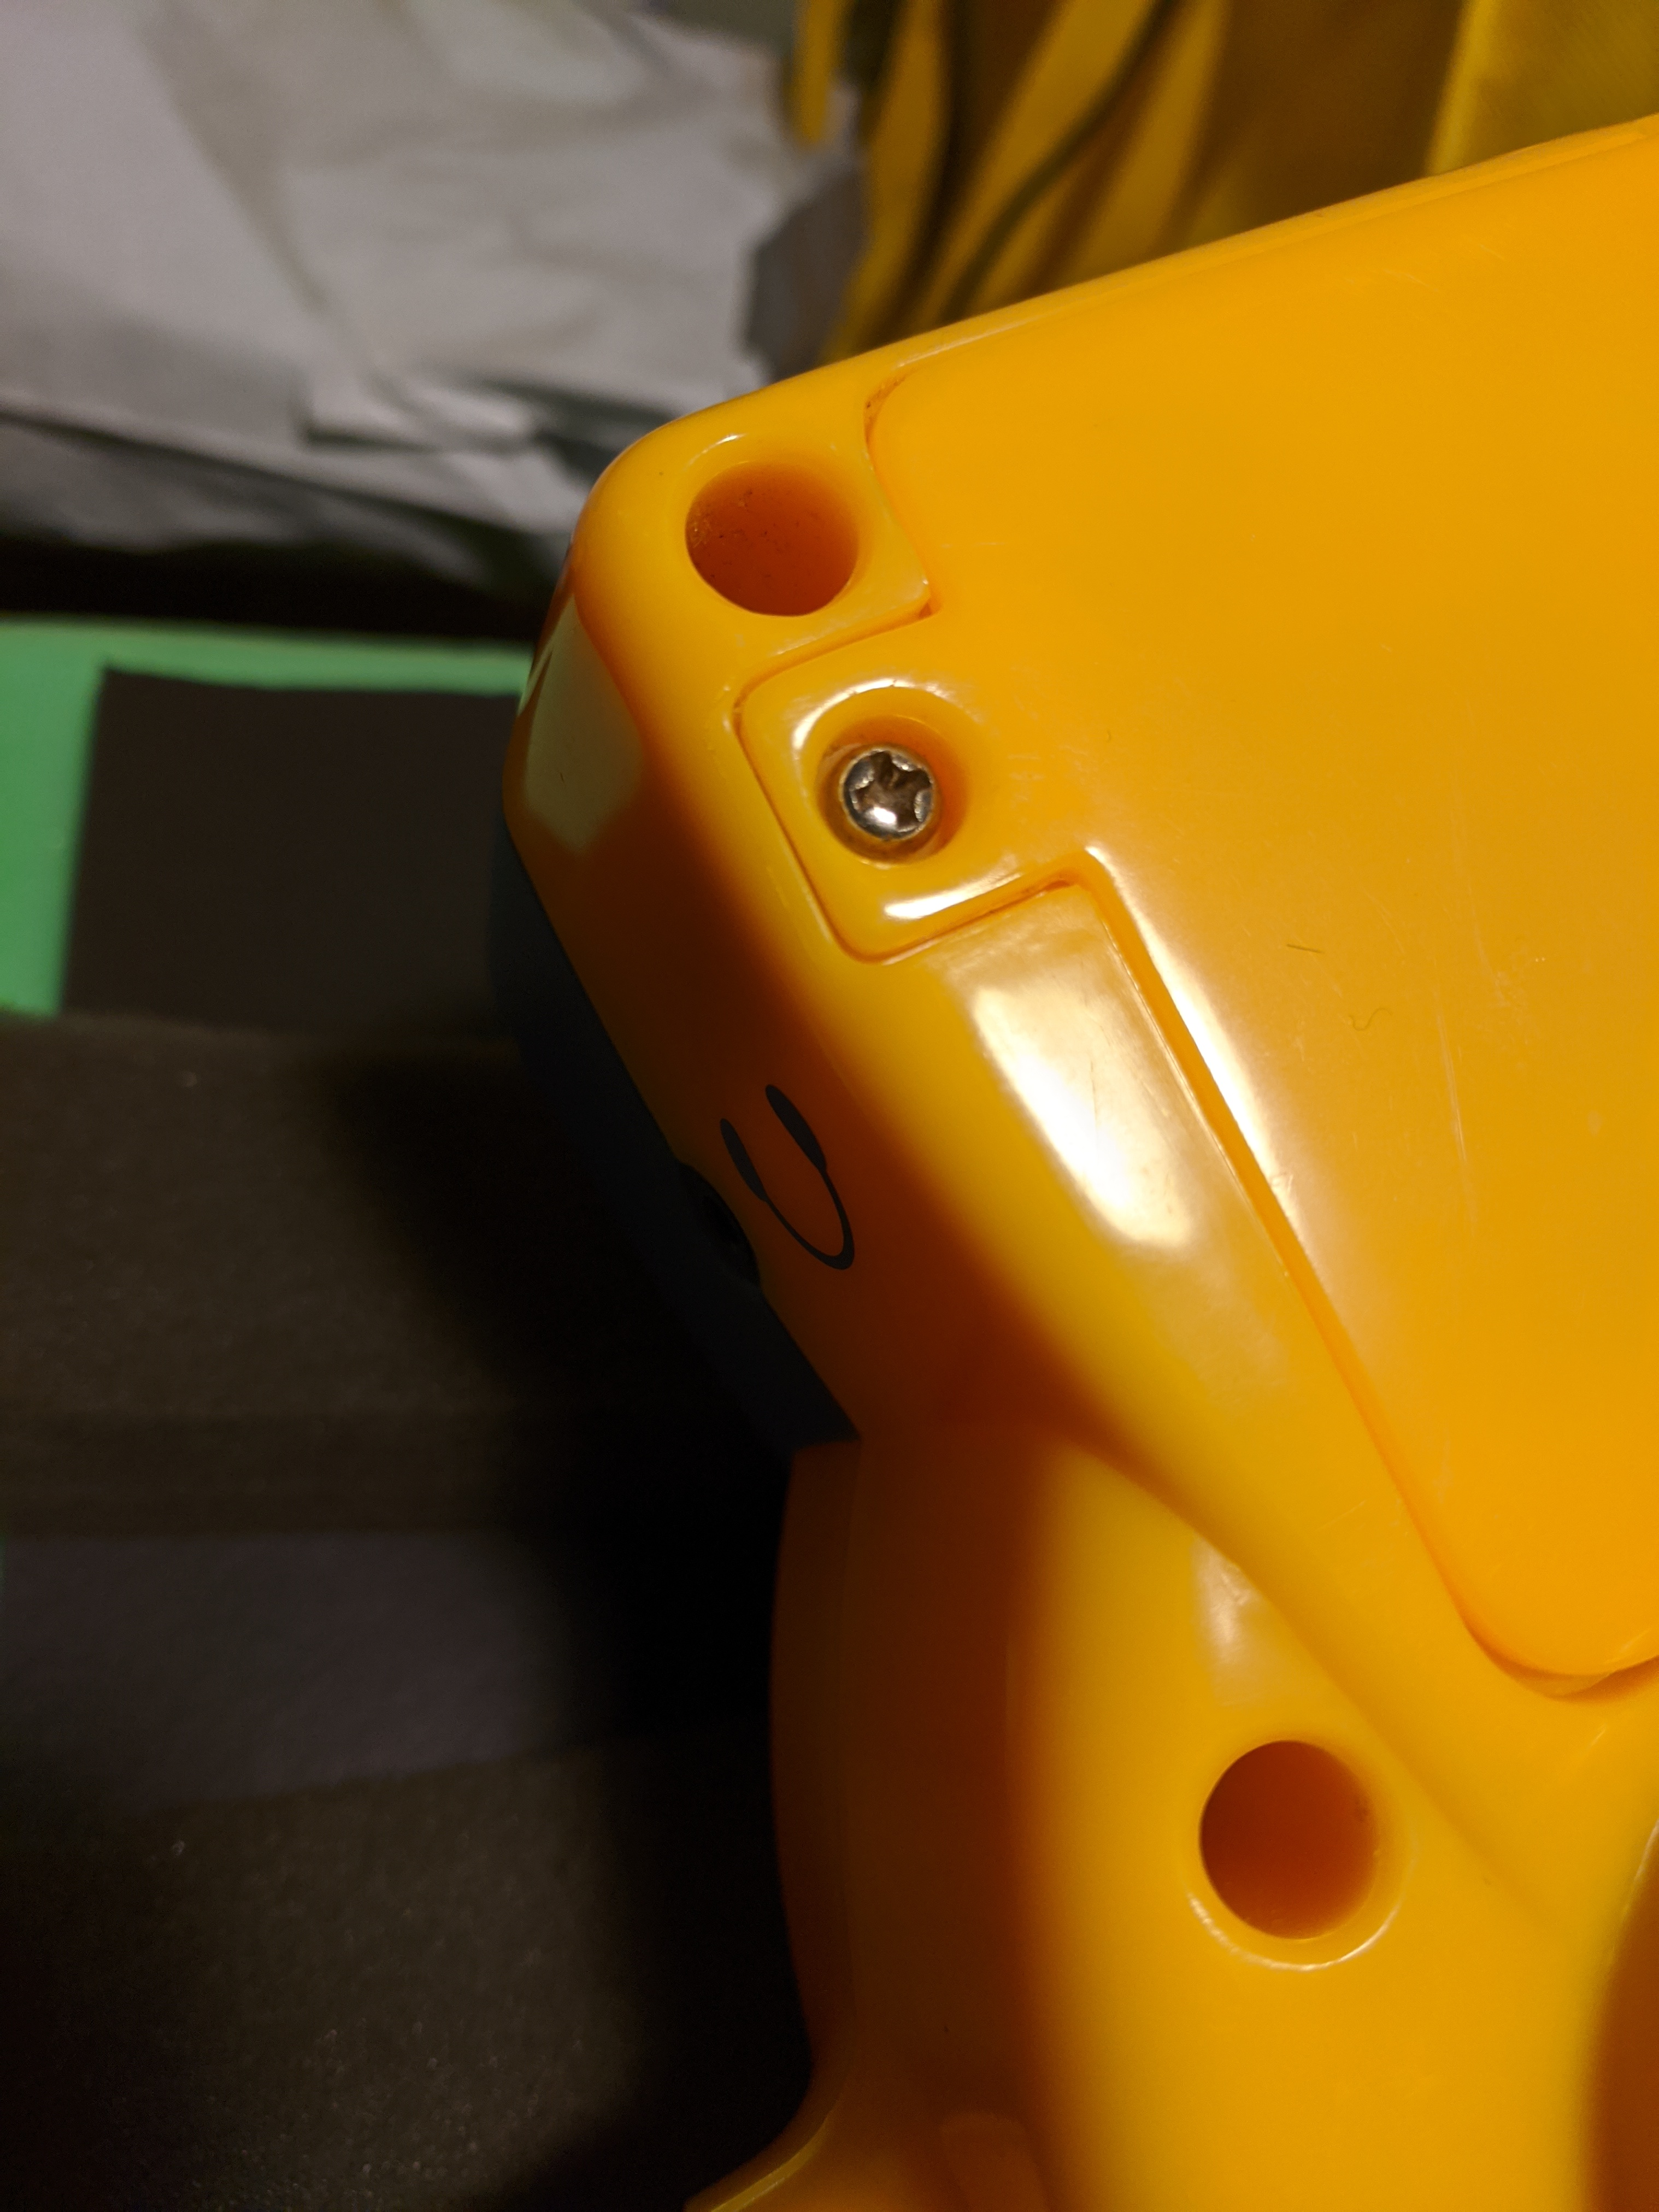cross_recessed_screw: (802, 712, 965, 866)
